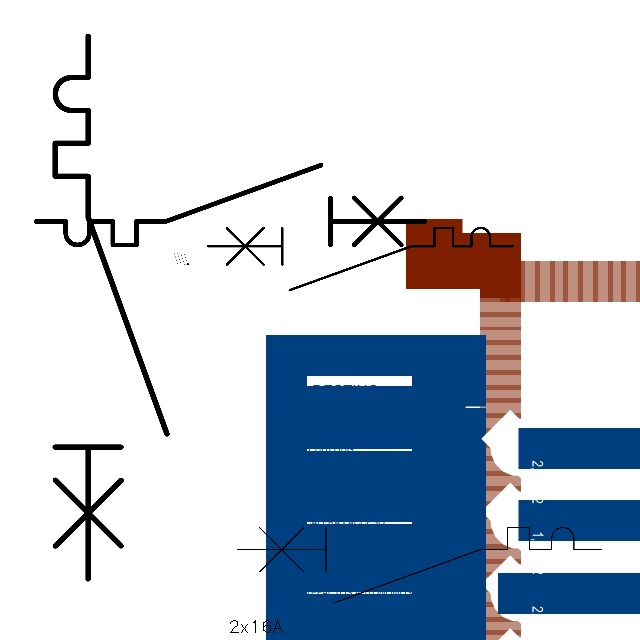interruptor_termomagnetico: (41, 22, 180, 593), (26, 155, 435, 255), (228, 518, 611, 612), (200, 220, 521, 298)
